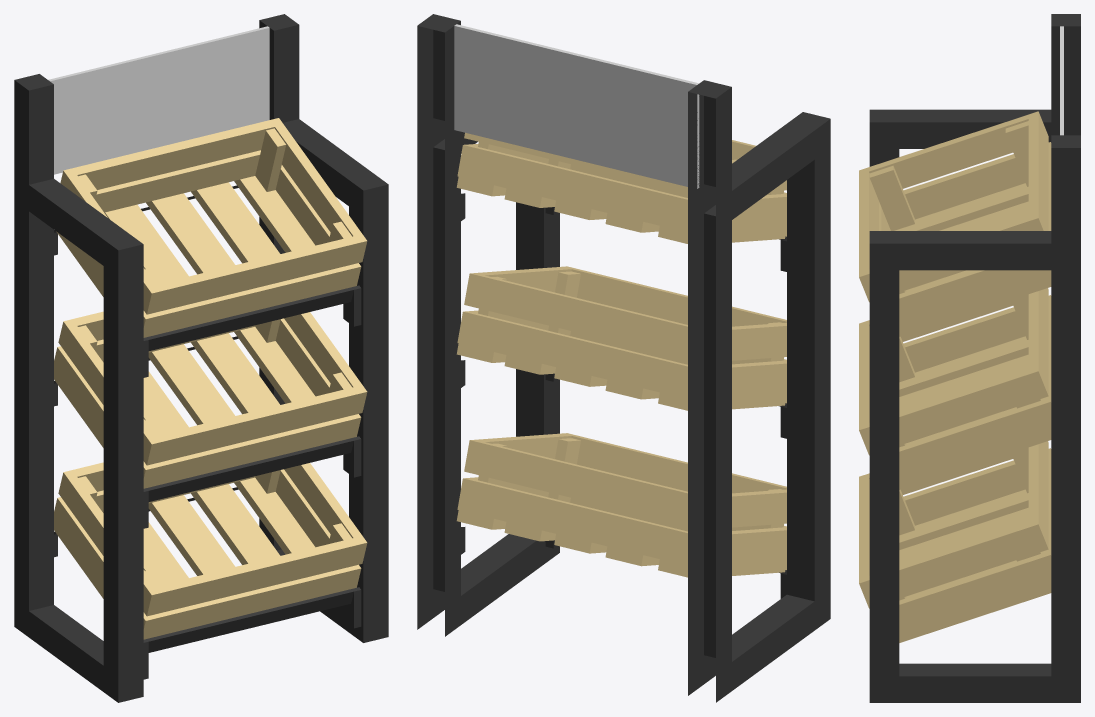
The model's file is SM_ShelfB_test.fbx.
The picture shows the model from 3 angles, left to right: view 1: azimuth 30°, elevation 25°; view 2: azimuth 150°, elevation 25°; view 3: azimuth 270°, elevation 25°; orthographic projection. The views are drawn at different scales.
Visible parts, largest first — view 1: SM_ShelfB_test2; view 2: SM_ShelfB_test2; view 3: SM_ShelfB_test2.
Part boxes in pixels (x1=…): SM_ShelfB_test2: x1=14, y1=14, x2=388, y2=702; SM_ShelfB_test2: x1=417, y1=14, x2=830, y2=702; SM_ShelfB_test2: x1=859, y1=14, x2=1080, y2=702.
Bounding box in the file's own units: 75 × 145 × 52.55.
